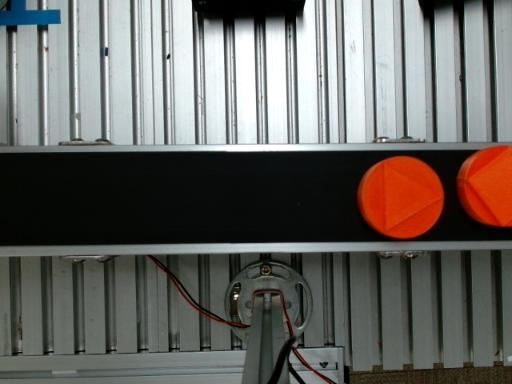Not_Square: (384, 163, 442, 231)
Orange_Waper: (358, 156, 445, 239), (457, 146, 511, 227)
